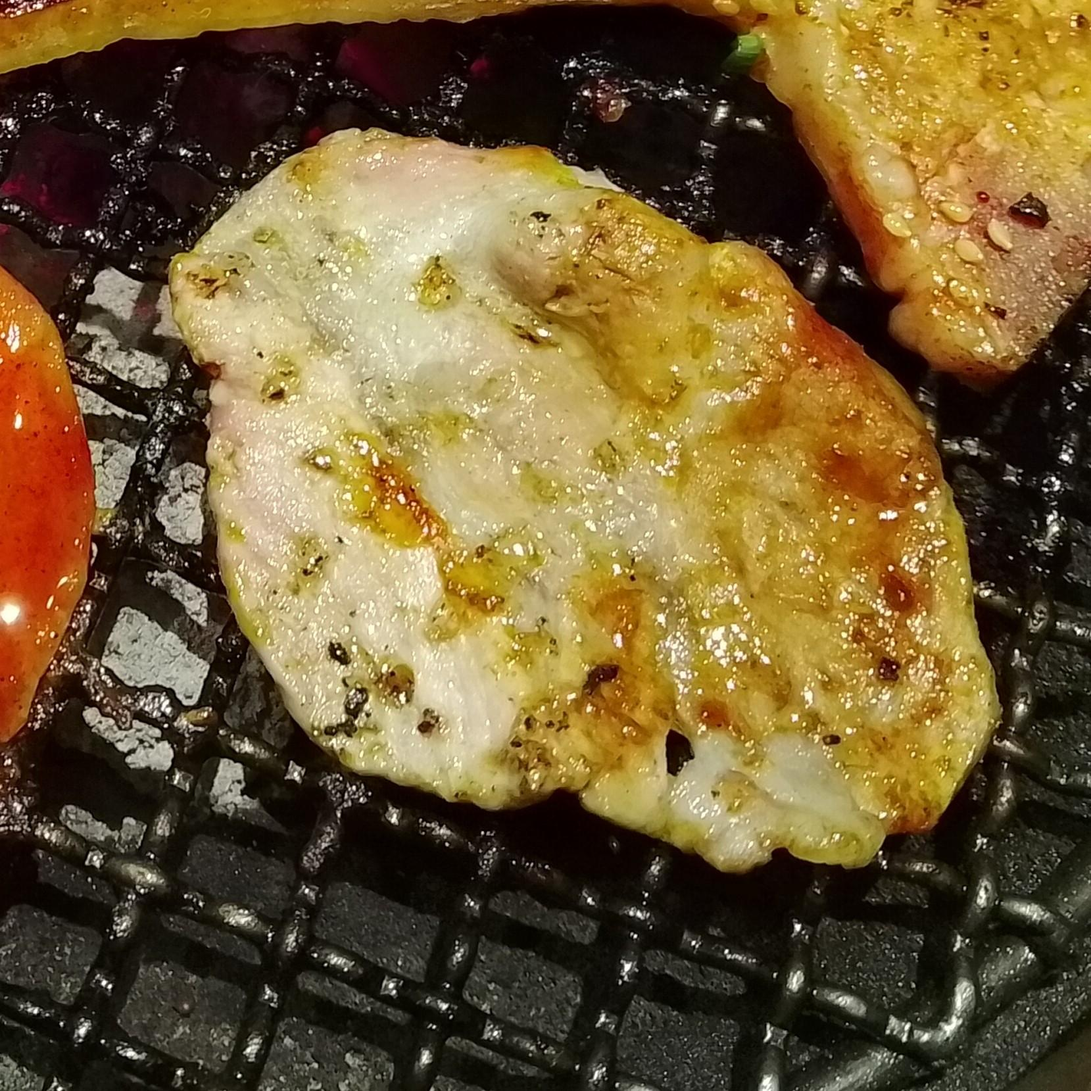Well-Cooked: (170, 130, 998, 871)
